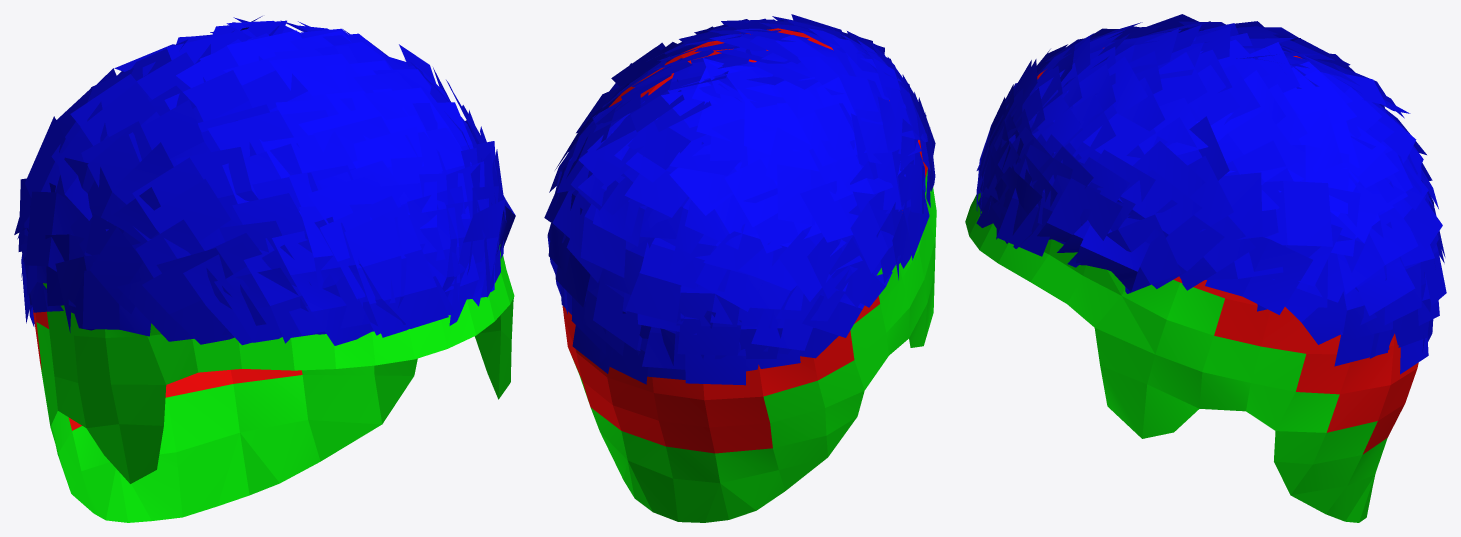
The model's file is hair_003.obj.
3 renders of one model, left to right at view 1: azimuth 30°, elevation 25°; view 2: azimuth 150°, elevation 25°; view 3: azimuth 270°, elevation 25°, orthographic. The views are drawn at different scales.
Size of the model in its own units: 16.5 by 20.97 by 19.53.
